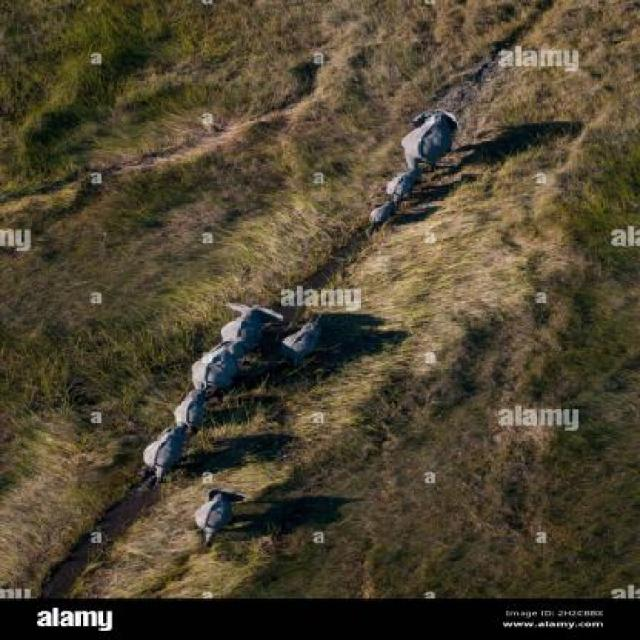elephant: (396, 103, 470, 168), (190, 482, 247, 552), (176, 337, 242, 392), (207, 299, 282, 344), (372, 159, 430, 204), (139, 422, 183, 476), (278, 318, 332, 360), (172, 383, 205, 440), (366, 194, 399, 241)
